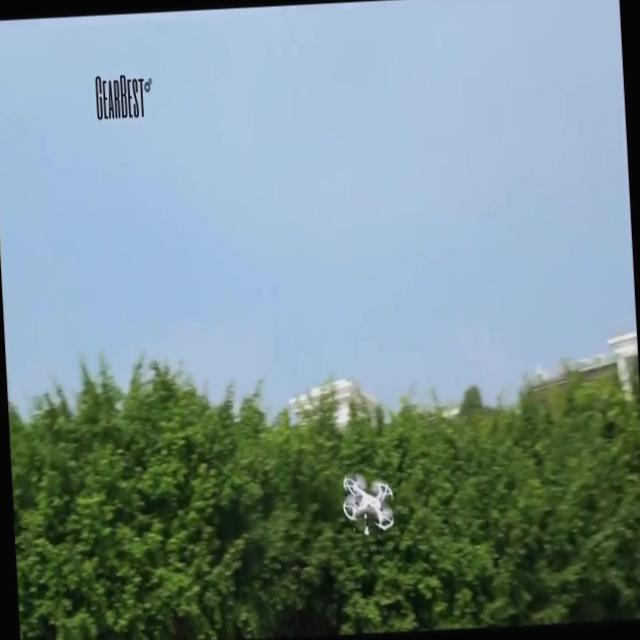drone: (341, 470, 396, 537)
